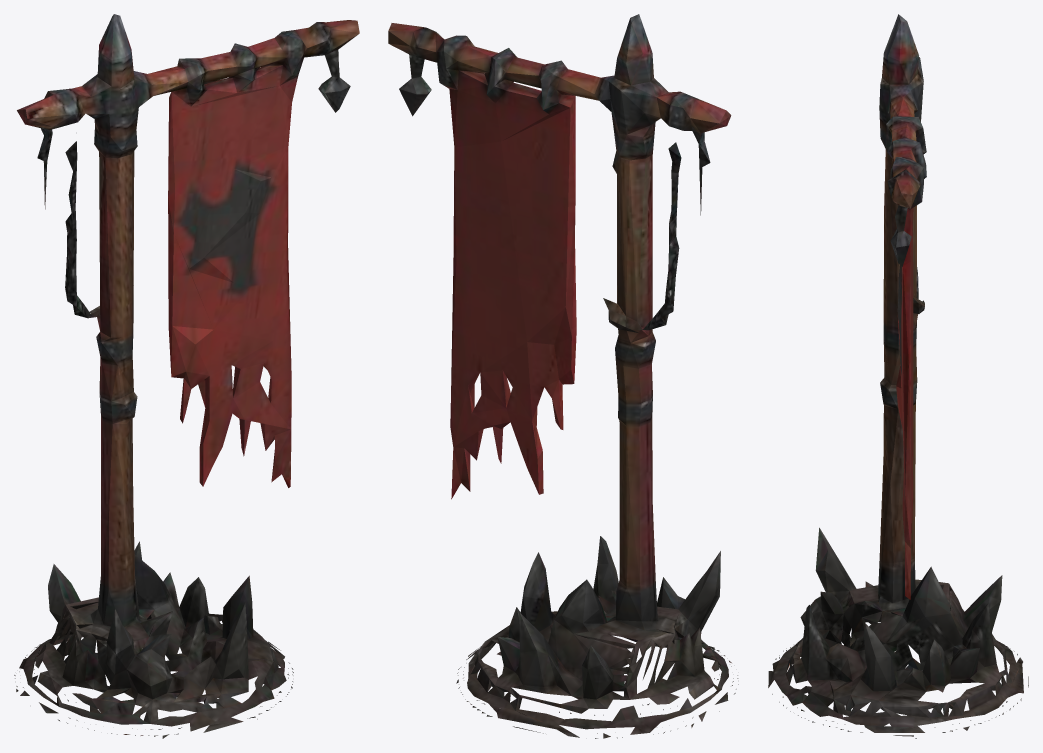
Rendered from banner_ragged_spear_lod0.glb.
3 views of the same model, side by side, from view 1: azimuth 30°, elevation 25°; view 2: azimuth 150°, elevation 25°; view 3: azimuth 270°, elevation 25° (orthographic). The views are drawn at different scales.
Visible parts, largest first — view 1: banner_ragged_spear_lod0; view 2: banner_ragged_spear_lod0; view 3: banner_ragged_spear_lod0.
Boxes of the visible parts, bbox=[...] form: banner_ragged_spear_lod0: bbox=[14, 14, 359, 738]; banner_ragged_spear_lod0: bbox=[388, 14, 738, 738]; banner_ragged_spear_lod0: bbox=[768, 14, 1028, 738].
Size of the model in its own units: 1.8 by 3.47 by 1.26.
Materials: 1 (1 with a texture image).
